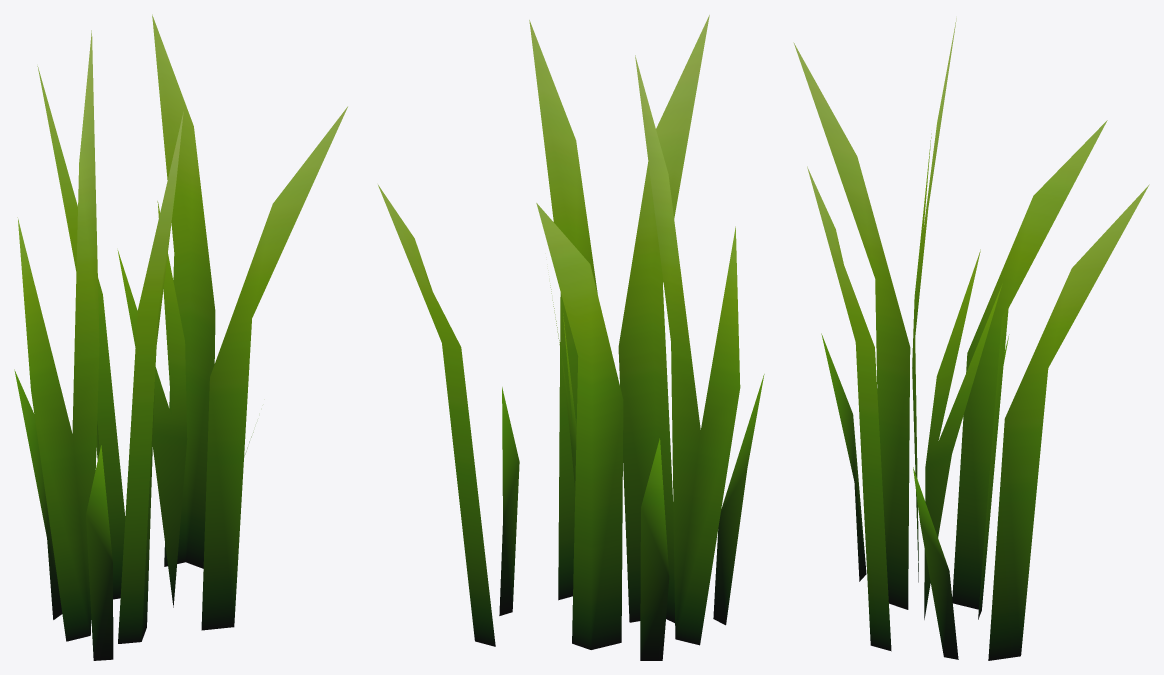
File: Grass_Common_Short.medium.gltf
The picture shows the model from 3 angles, left to right: view 1: azimuth 30°, elevation 25°; view 2: azimuth 150°, elevation 25°; view 3: azimuth 270°, elevation 25°; orthographic projection. The views are drawn at different scales.
Visible parts, largest first — view 1: Grass_Common_Short; view 2: Grass_Common_Short; view 3: Grass_Common_Short.
Part boxes in pixels (x1,y1,x2,y2): Grass_Common_Short: (14,14,347,660); Grass_Common_Short: (378,15,764,660); Grass_Common_Short: (793,18,1149,660).
Bounding box in the file's own units: 0.6318 × 1.33 × 0.7373.
Materials: 1 (1 with a texture image).
